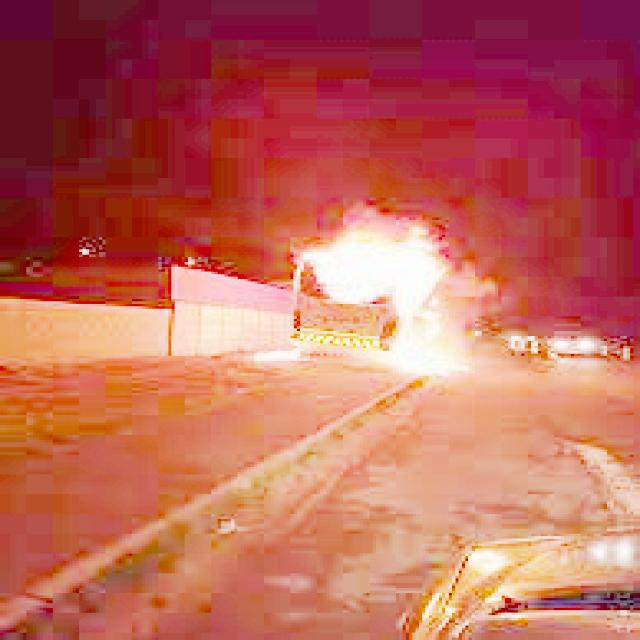api: (265, 211, 479, 382)
